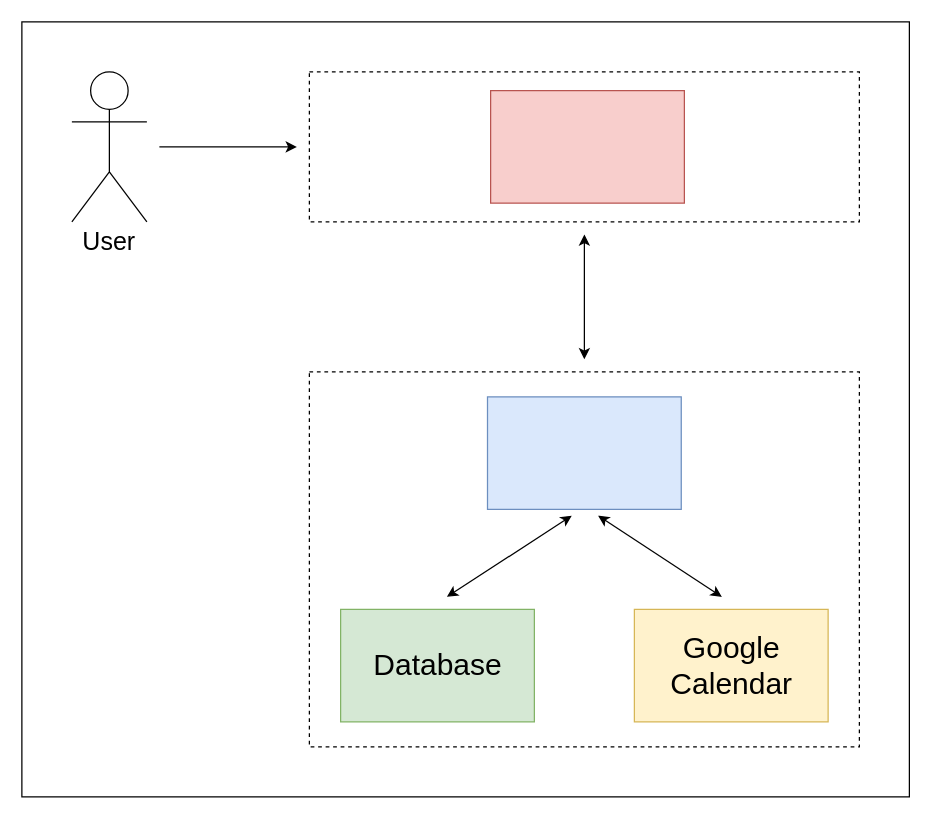
The diagram is 931 pixels wide and 819 high, and some of its shapes have lost their labels. Here are the shapes that lost their labels. From the top down, the centre of each, then its label:
At (586,146): "Webpage UI".
At (583,452): "Server".
